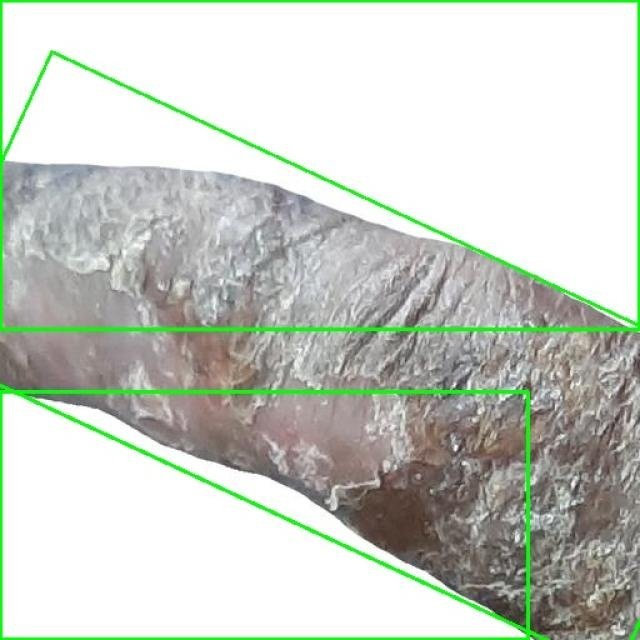Eczema: (0, 51, 640, 640), (0, 0, 639, 329), (0, 391, 528, 639)
